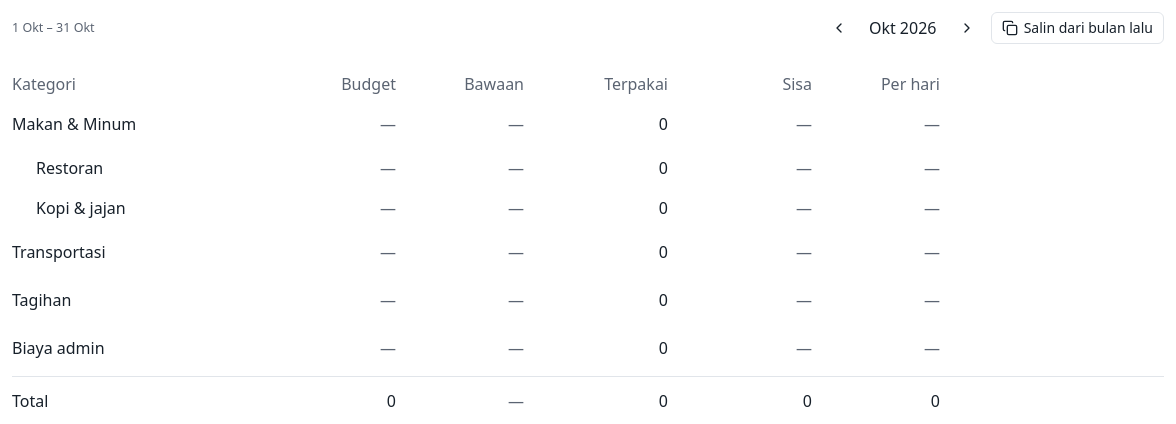
Scenario: BudgetView › menampilkan periode saat ini dan pindah ke periode sebelumnya
This screenshot has width=1176, height=424.
Expected: the text with test id "budget-period" reads "Okt 2026", [869,17,936,39]
Click the button named "Periode sebelumnya" at (839, 28), box [823,12,855,44]
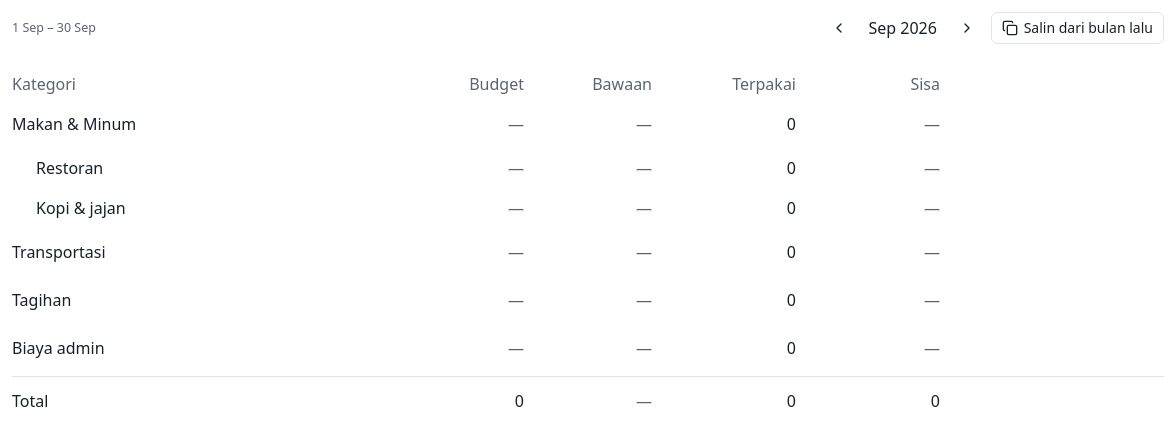
Expected: the text with test id "budget-period" reads "Sep 2026", [868,17,937,39]
